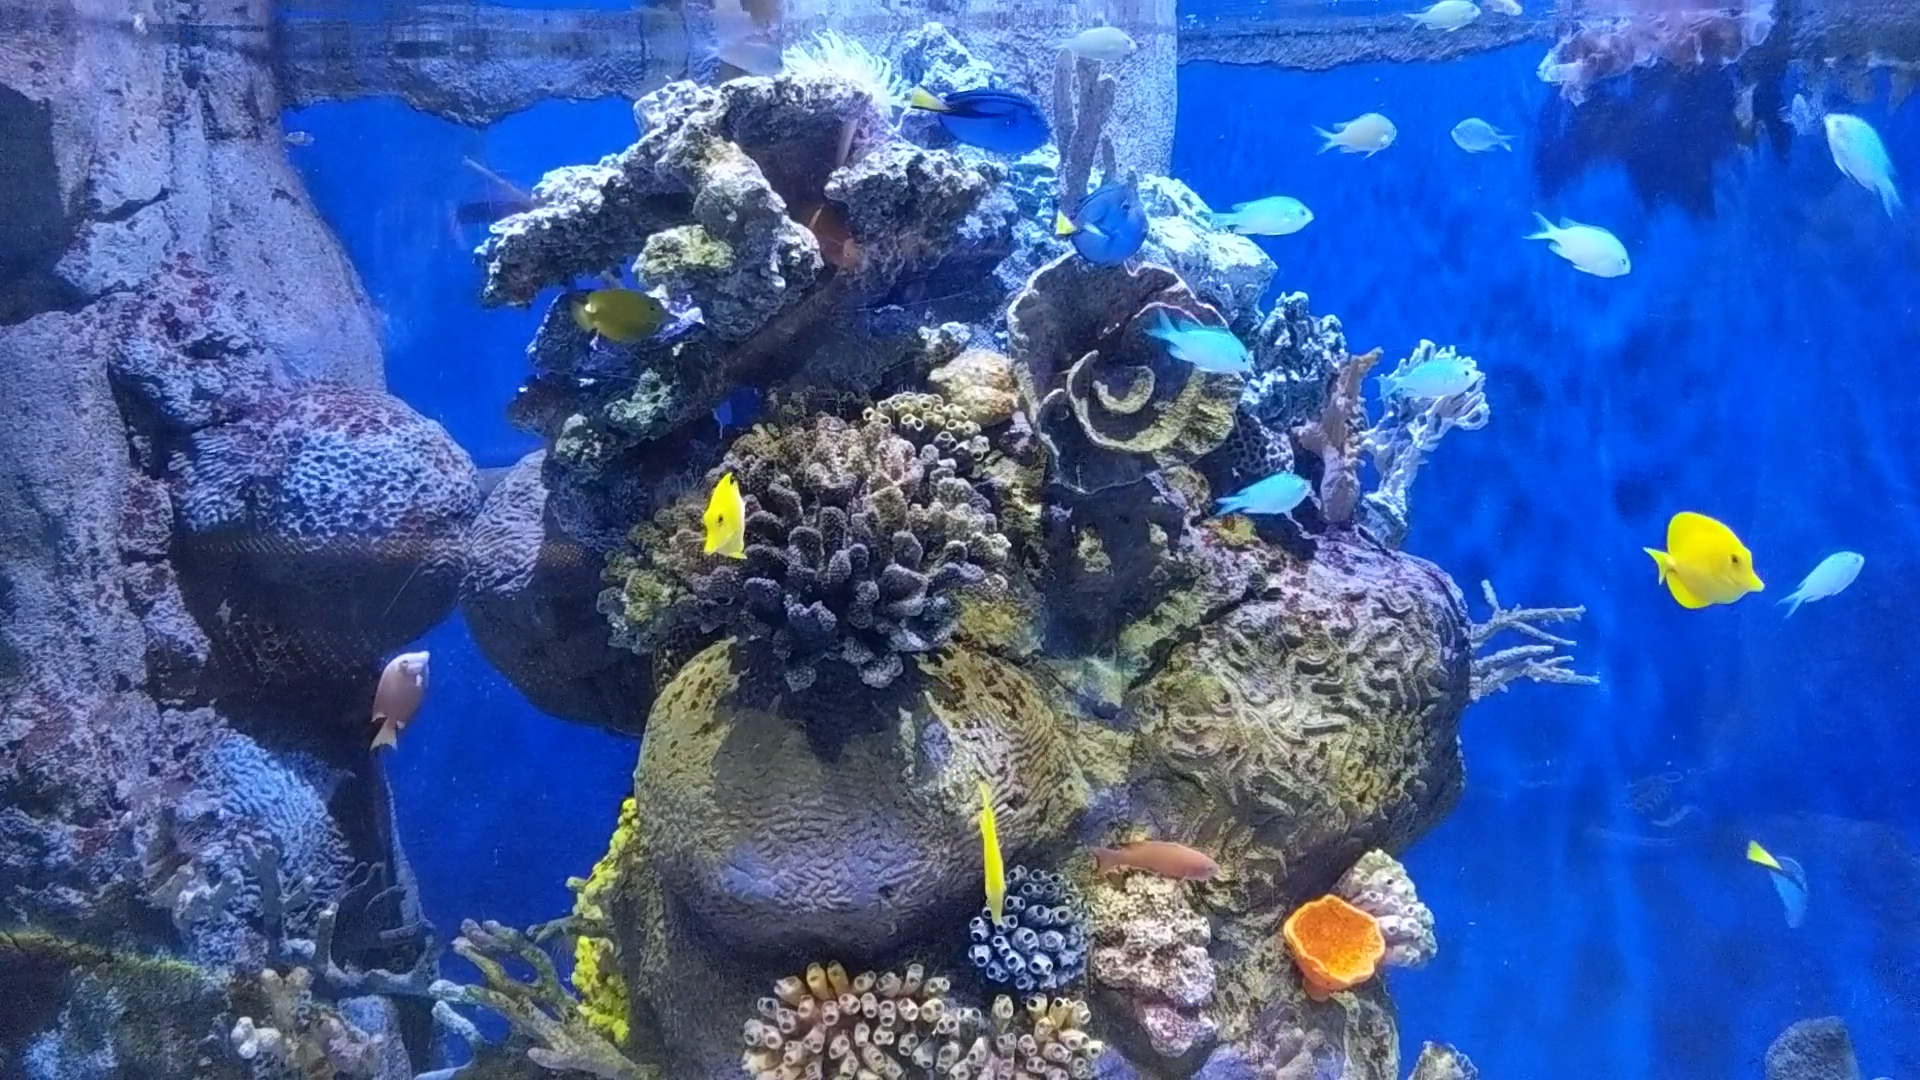blue tang surgeonfish: (913, 76, 1054, 157), (1056, 179, 1153, 276), (1751, 832, 1815, 943)
damselfish: (1139, 305, 1257, 378), (1824, 109, 1909, 210), (1528, 204, 1633, 277), (1779, 538, 1865, 618), (1373, 352, 1481, 400), (1211, 193, 1317, 233), (1313, 108, 1402, 156), (709, 33, 794, 82), (1212, 475, 1311, 516), (1048, 28, 1147, 67), (1449, 113, 1514, 153), (1407, 1, 1485, 32)
saddle butterfly fish: (1648, 509, 1767, 611), (556, 284, 684, 345), (967, 771, 1014, 914), (694, 459, 754, 564)
